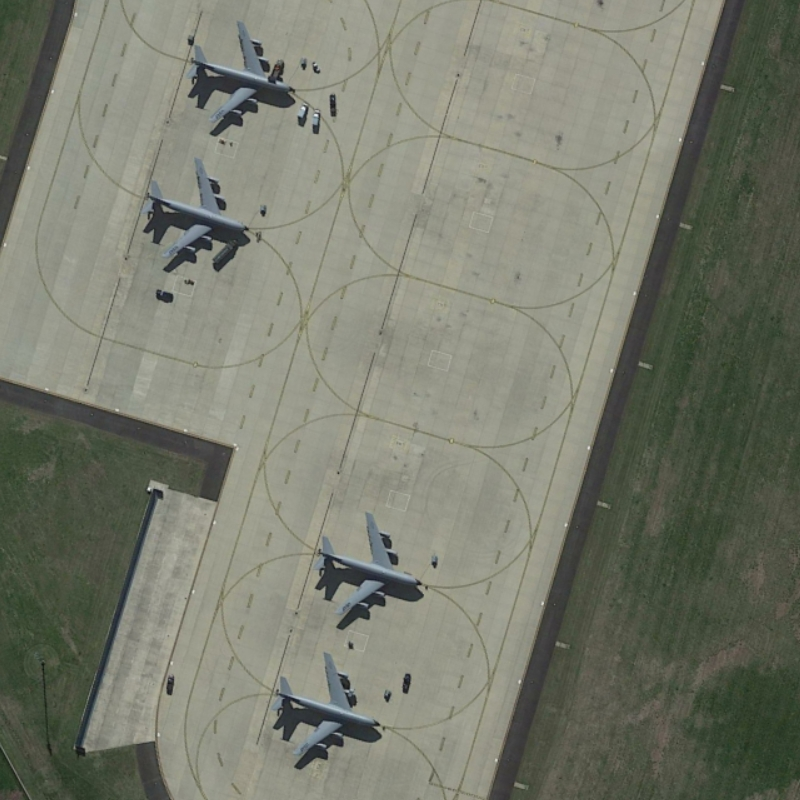A14: (269, 647, 385, 774), (181, 18, 300, 128), (137, 153, 252, 265), (311, 508, 426, 620)
